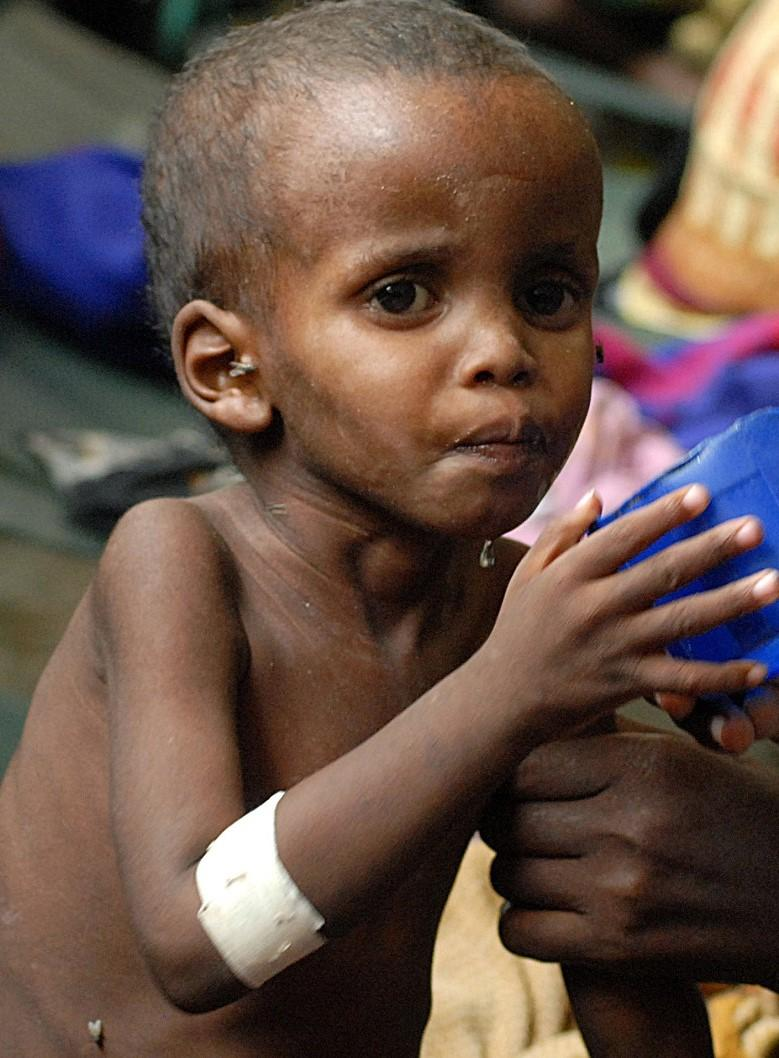Stunting: (152, 85, 732, 608)
